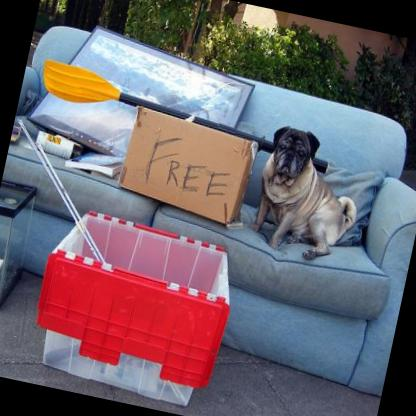pug: (244, 121, 370, 268)
